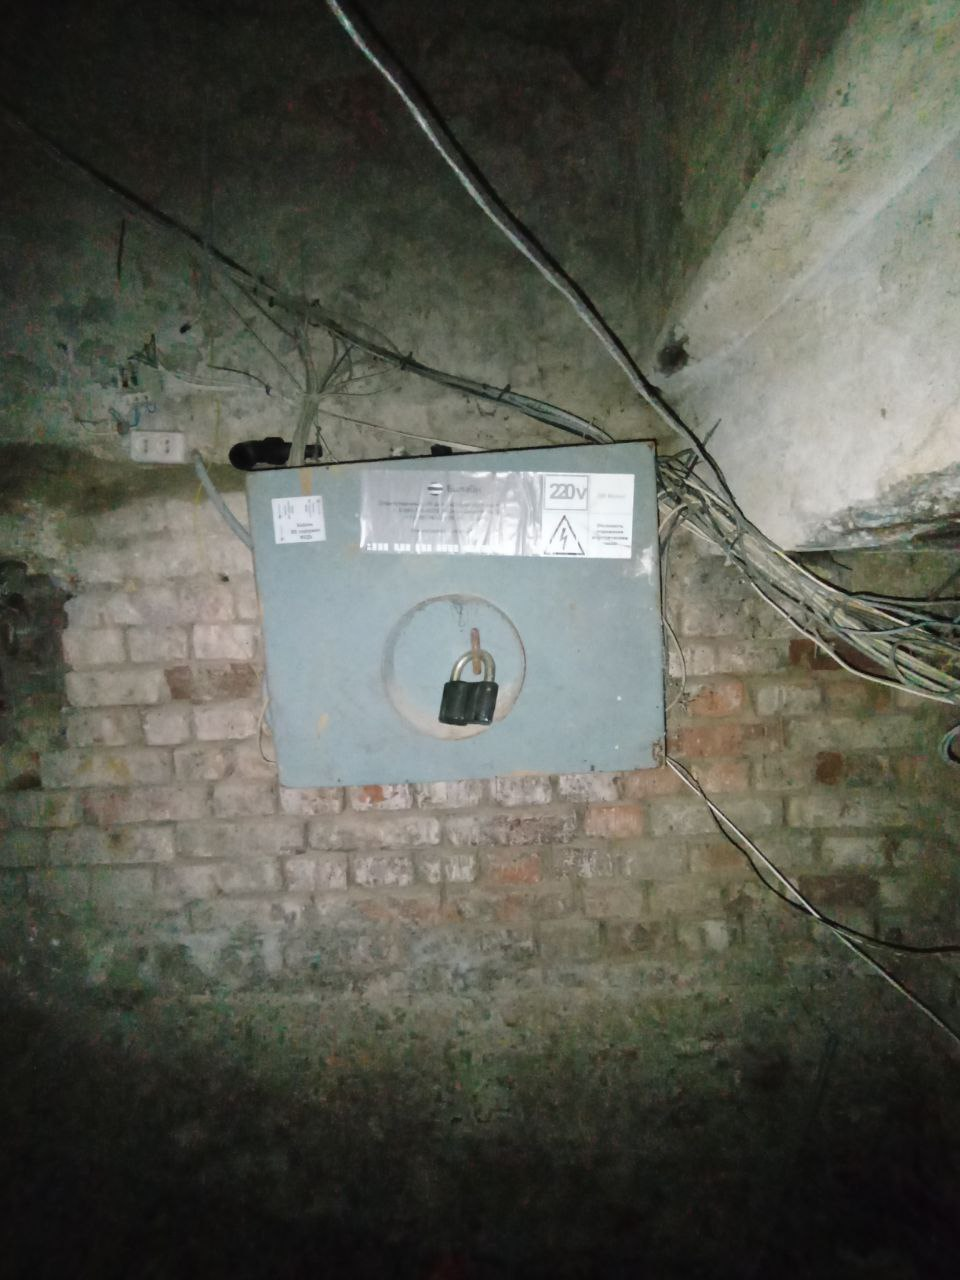shta-3: (239, 436, 675, 792)
